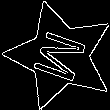M_E: (27, 25, 93, 86)
